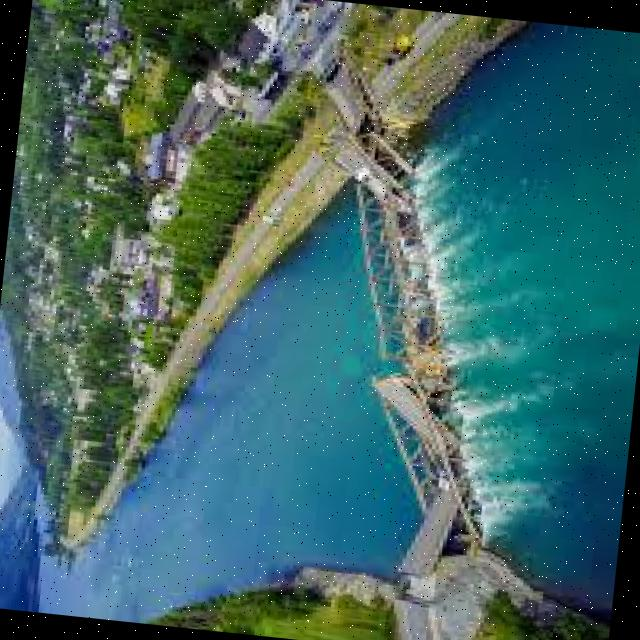bridge collapse: (292, 102, 518, 378), (344, 369, 546, 590)
